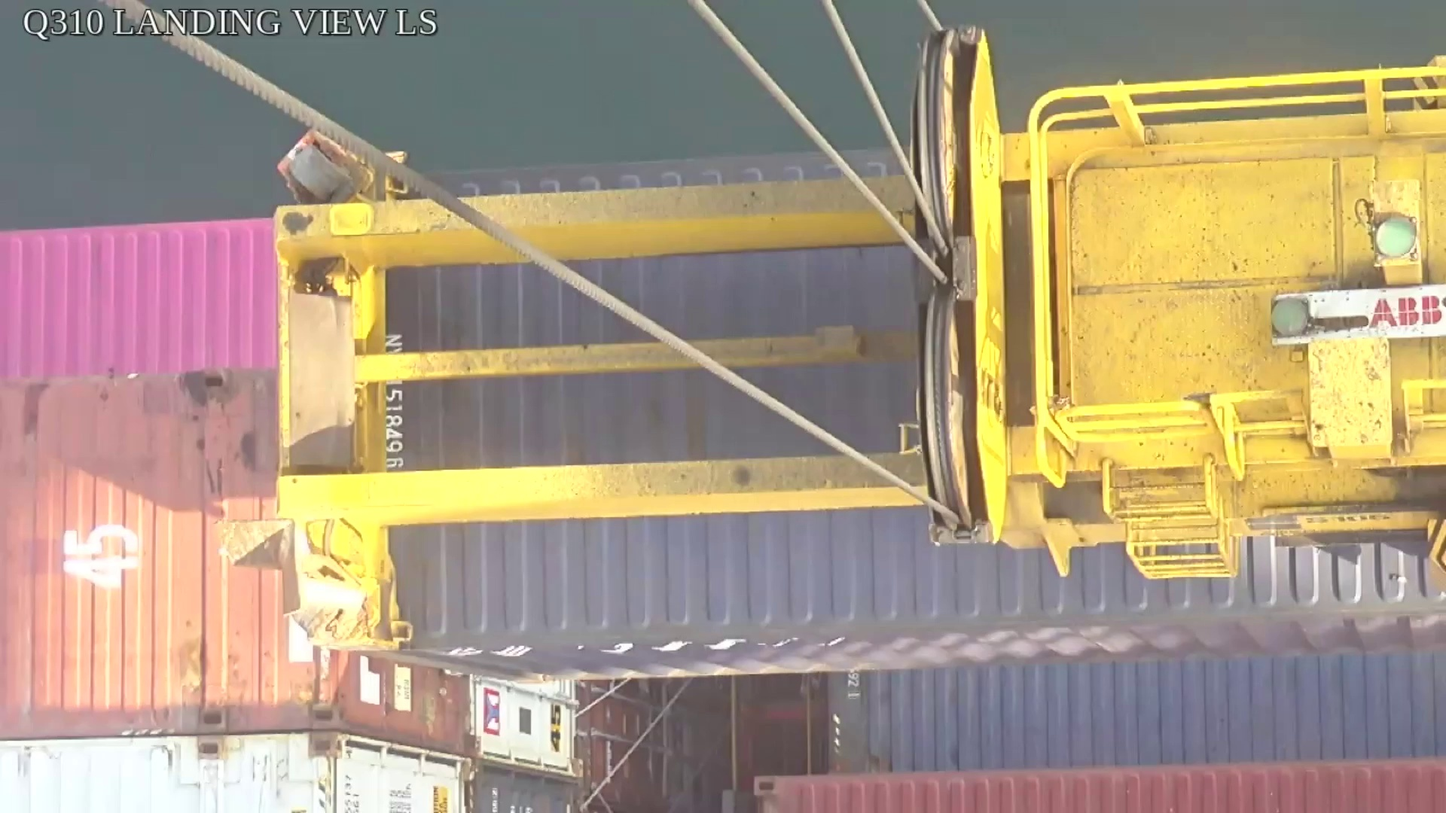aa: (912, 27, 1008, 548)
